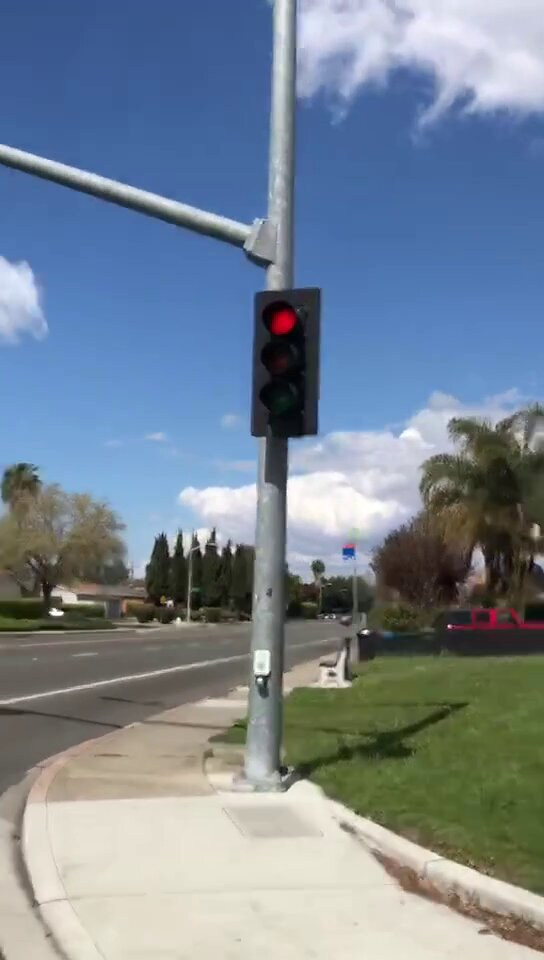red_light: (255, 291, 317, 437)
